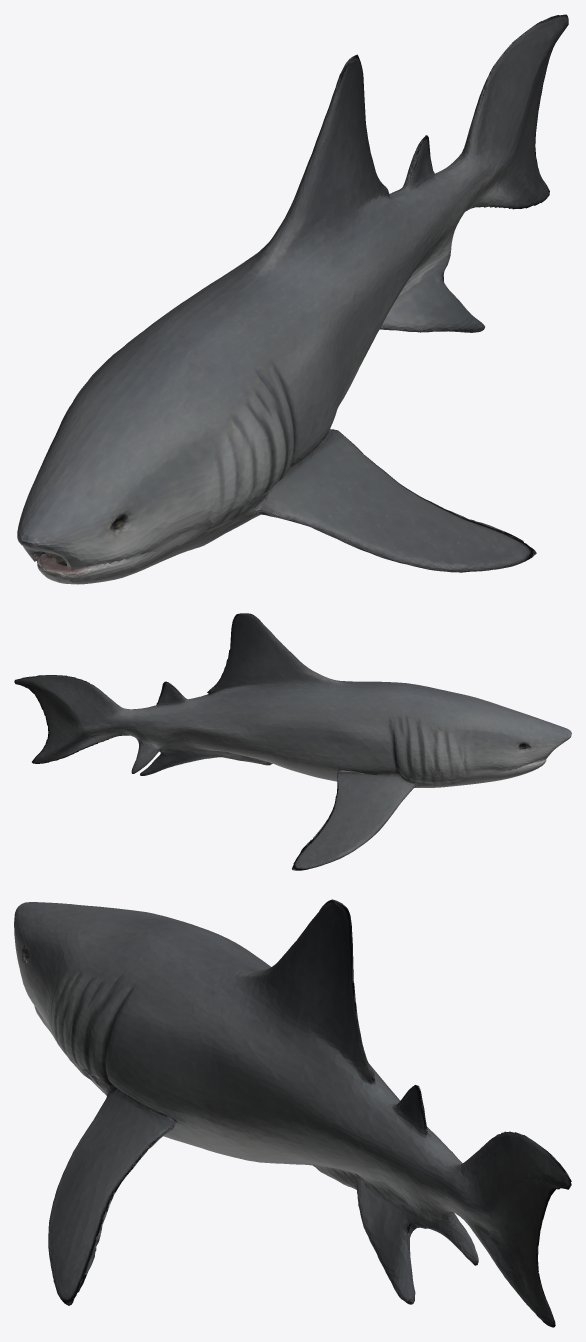
The picture shows the model from 3 angles, top to bottom: view 1: azimuth 30°, elevation 25°; view 2: azimuth 150°, elevation 25°; view 3: azimuth 270°, elevation 25°; orthographic projection. The views are drawn at different scales.
Parts seen in each view (by area): view 1: world; view 2: world; view 3: world.
Boxes of the visible parts, x1=… form: world: x1=17, y1=14, x2=568, y2=584; world: x1=14, y1=613, x2=571, y2=870; world: x1=14, y1=899, x2=571, y2=1327.
Size of the model in its own units: 3 by 1.4 by 1.83.
1 material, 1 textured.
